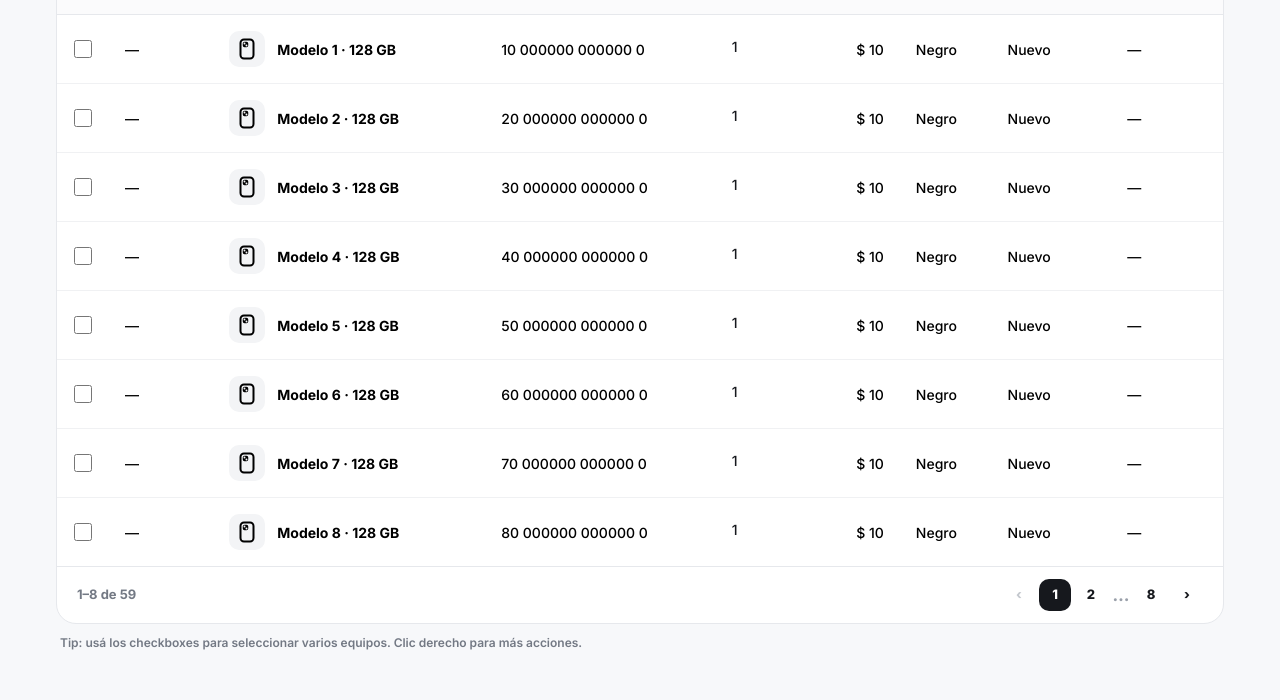
Test: Inventory equipment summary (móvil=false) › coincide con Todos tras importar 59 filas y conserva el valor de los disponibles
(page scrolled)
Click the button named "Página 2".
click(1091, 595)  # box [1075,579,1107,611]
(page scrolled)
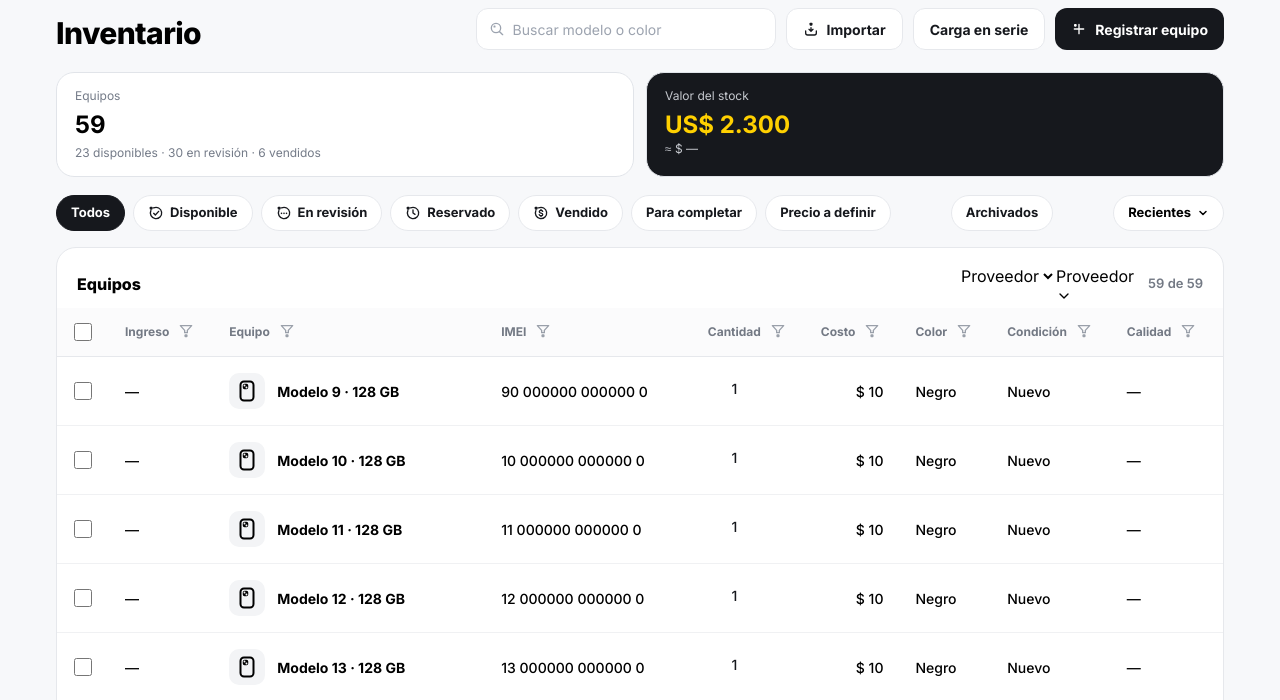
Click the button "En revisión".
click(321, 213)  # box [260,195,382,231]
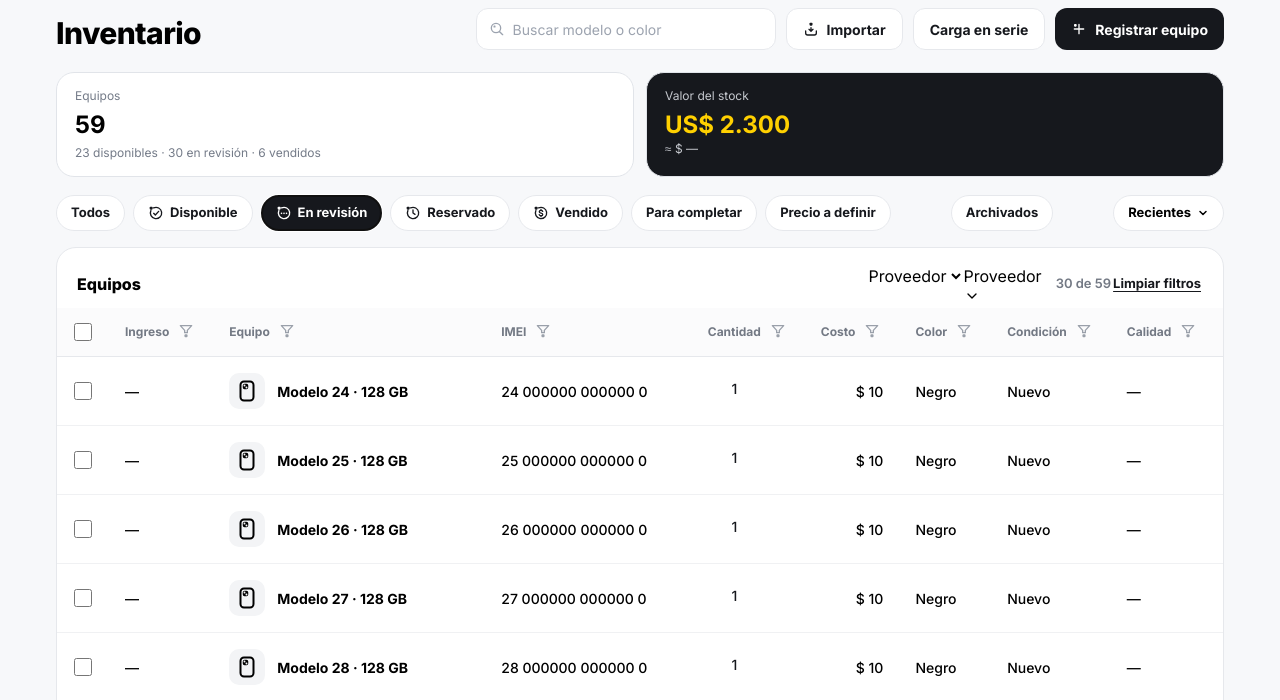
Check: the text "59" is shown, box [75,110,106,139]
Check: the text with test id "inventory-total" reads "30 de 59", box [1056,275,1111,291]
